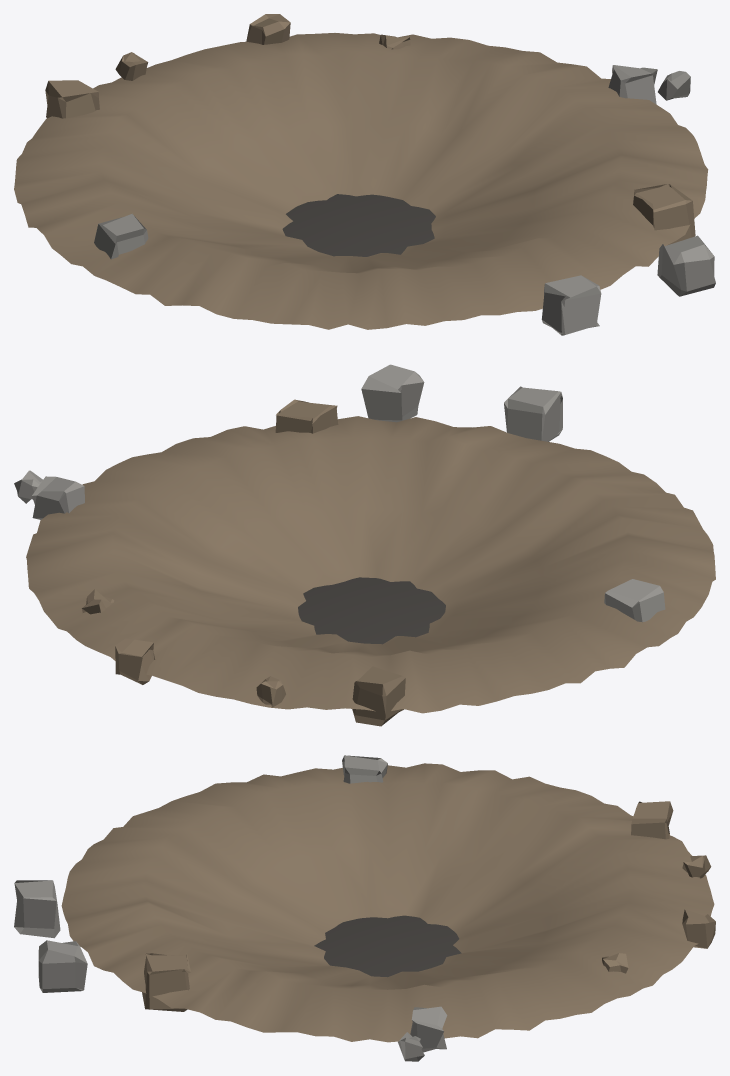
Rendered from v_crater.glb.
The picture shows the model from 3 angles, top to bottom: view 1: azimuth 30°, elevation 25°; view 2: azimuth 150°, elevation 25°; view 3: azimuth 270°, elevation 25°; orthographic projection. The views are drawn at different scales.
Visible parts, largest first — view 1: Crater; view 2: Crater; view 3: Crater.
Part boxes in pixels (x1,y1,x2,y2): Crater: (14, 14, 715, 335); Crater: (14, 364, 715, 726); Crater: (14, 755, 715, 1061).
Bounding box in the file's own units: 5.54 × 0.8601 × 5.59.
